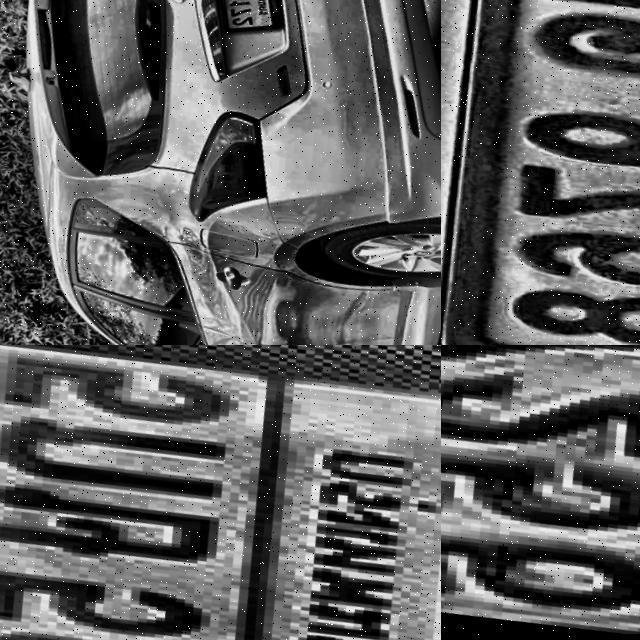license-plate: (0, 345, 441, 640), (441, 0, 640, 345), (441, 345, 640, 640), (187, 0, 294, 50)
